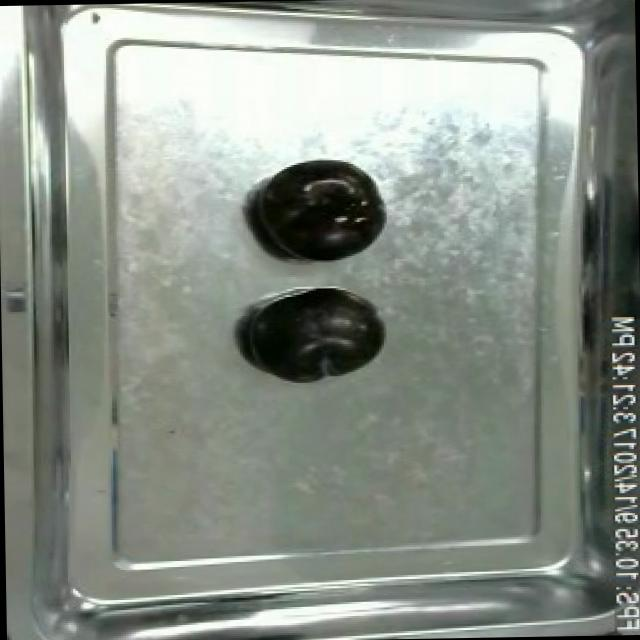Fruit: (240, 288, 391, 386), (248, 159, 386, 265)
